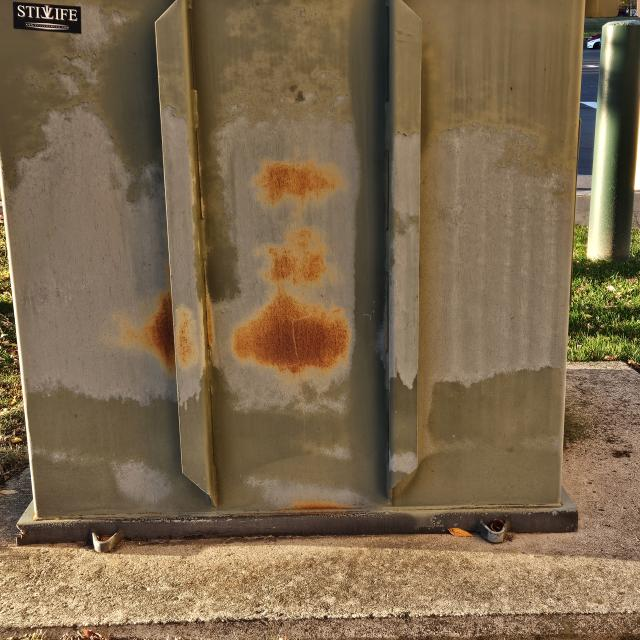Uniform Corrosion: (146, 148, 368, 392)
